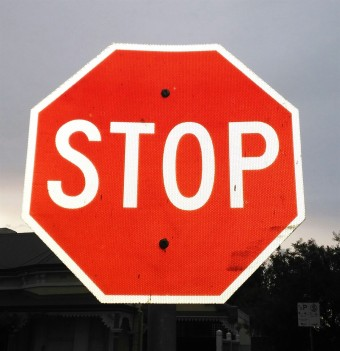SS: (27, 42, 306, 308)
